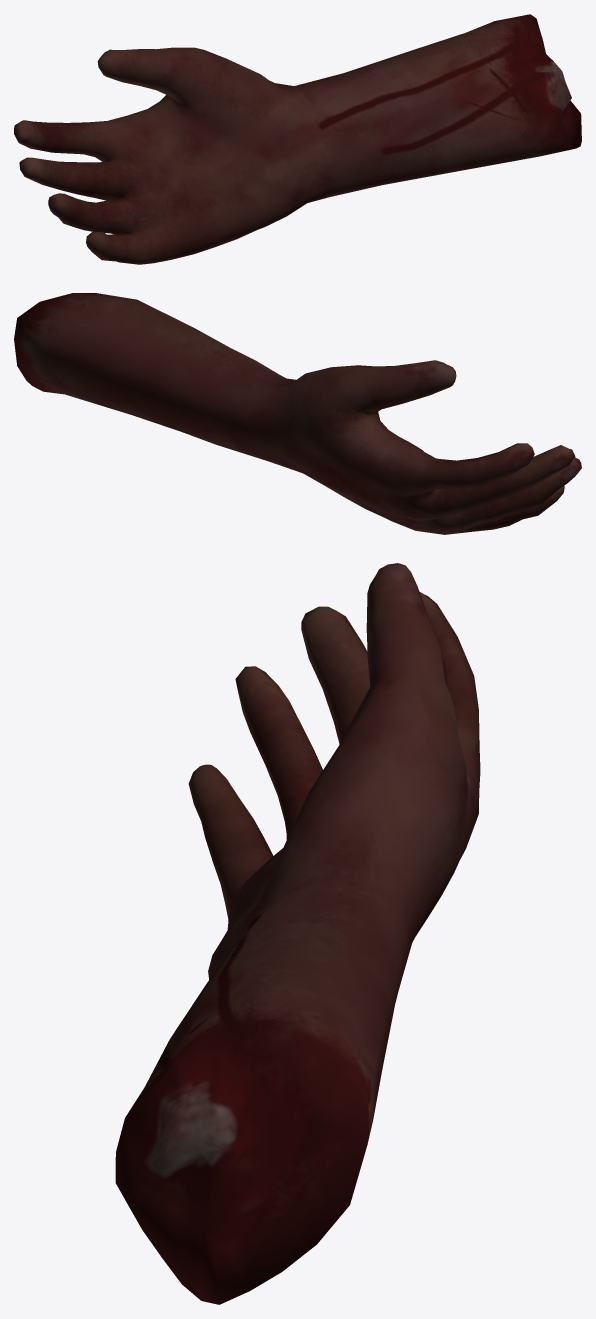
File: hand.glb
The picture shows the model from 3 angles, top to bottom: view 1: azimuth 30°, elevation 25°; view 2: azimuth 150°, elevation 25°; view 3: azimuth 270°, elevation 25°; orthographic projection. The views are drawn at different scales.
Visible parts, largest first — view 1: Hand_Material.005_0; view 2: Hand_Material.005_0; view 3: Hand_Material.005_0.
Boxes of the visible parts, box(x1,y1,x2,y2) form: Hand_Material.005_0: box(14, 14, 581, 264); Hand_Material.005_0: box(14, 293, 581, 534); Hand_Material.005_0: box(115, 563, 480, 1304).
Size of the model in its own units: 76.98 by 26.18 by 22.71.
1 material, 1 textured.
